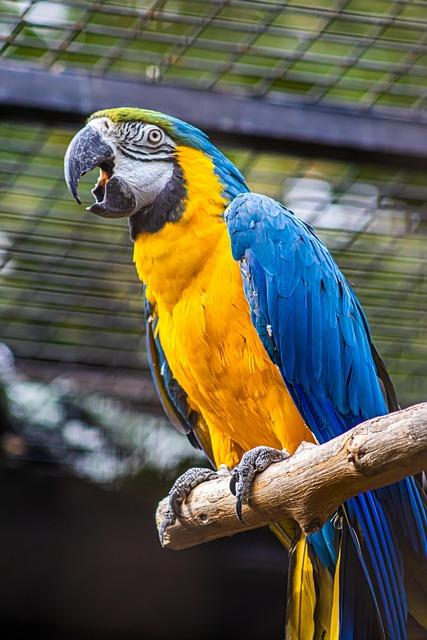Non_Gorille: (3, 85, 427, 599)
